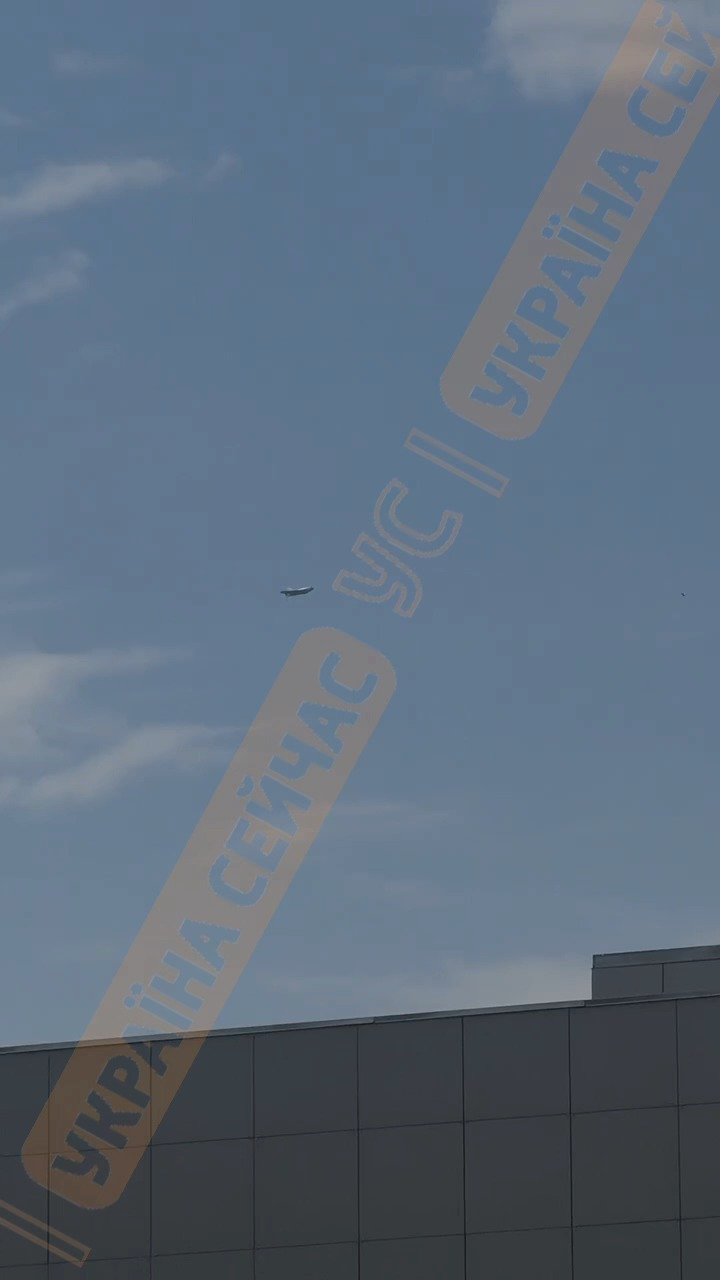shahed: (280, 579, 319, 605)
